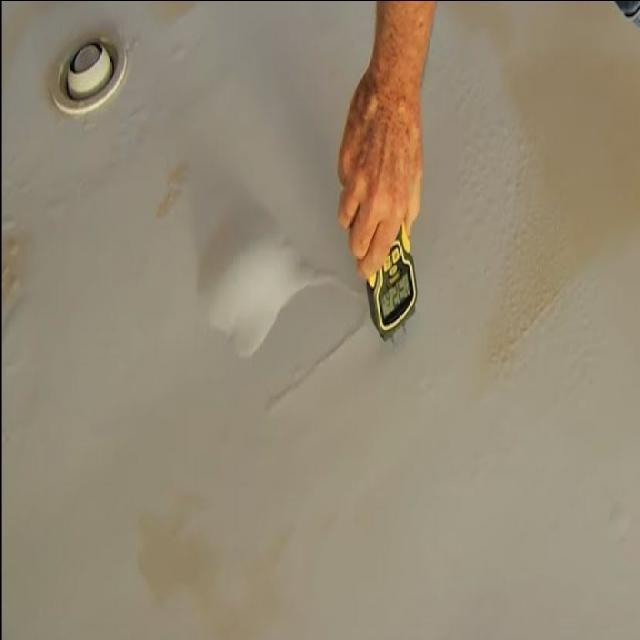leak: (197, 190, 376, 415), (6, 206, 34, 328)
